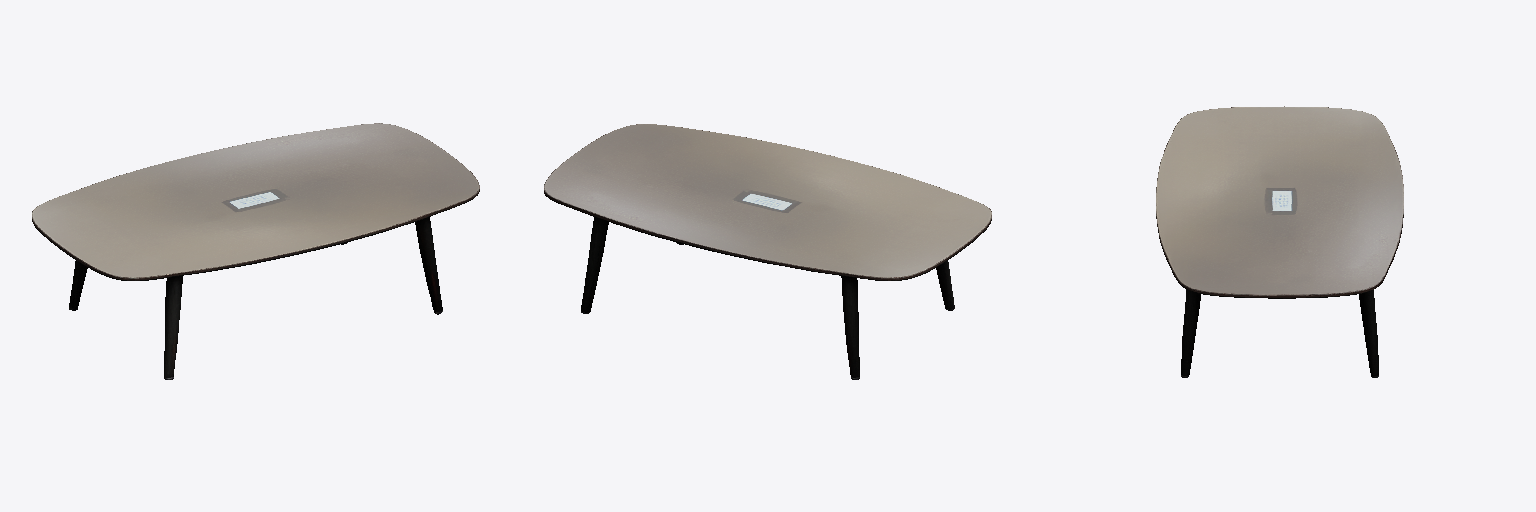
3 views of the same model, side by side, from view 1: azimuth 30°, elevation 25°; view 2: azimuth 150°, elevation 25°; view 3: azimuth 270°, elevation 25° (orthographic).
Parts seen in each view (by area): view 1: geometry_0; view 2: geometry_0; view 3: geometry_0.
Boxes of the visible parts, <box> form: geometry_0: <box>32,123,479,379</box>; geometry_0: <box>544,124,991,379</box>; geometry_0: <box>1156,106,1403,377</box>.
Bounding box in the file's own units: 1 × 0.2754 × 0.5584.
1 materials, 1 textured.